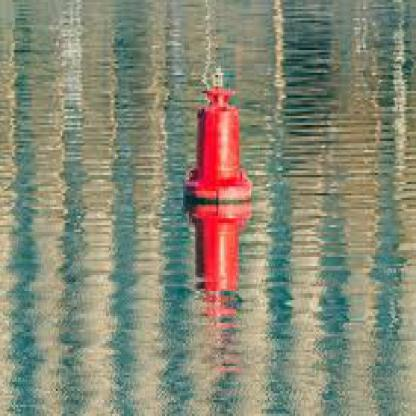buoy: (180, 52, 257, 216)
